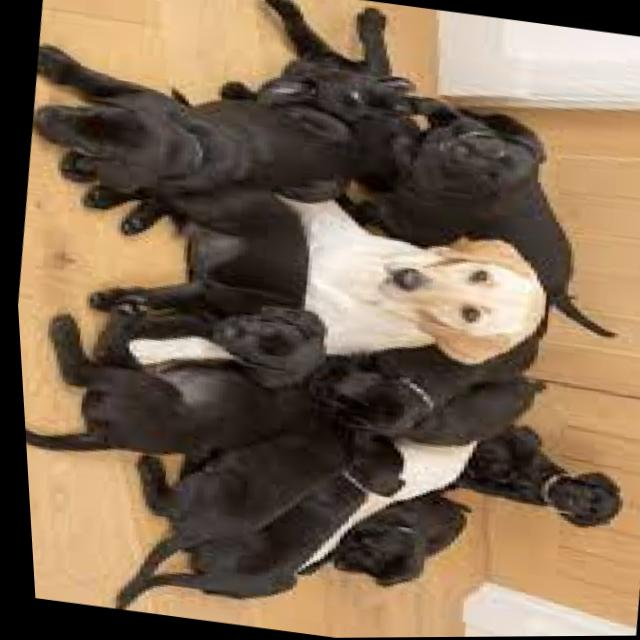dog: (368, 228, 555, 375), (416, 105, 550, 202), (199, 299, 328, 397), (27, 92, 150, 168), (300, 365, 418, 442), (307, 51, 416, 122), (324, 523, 423, 593), (455, 421, 539, 493), (330, 433, 407, 502), (538, 468, 619, 533)
